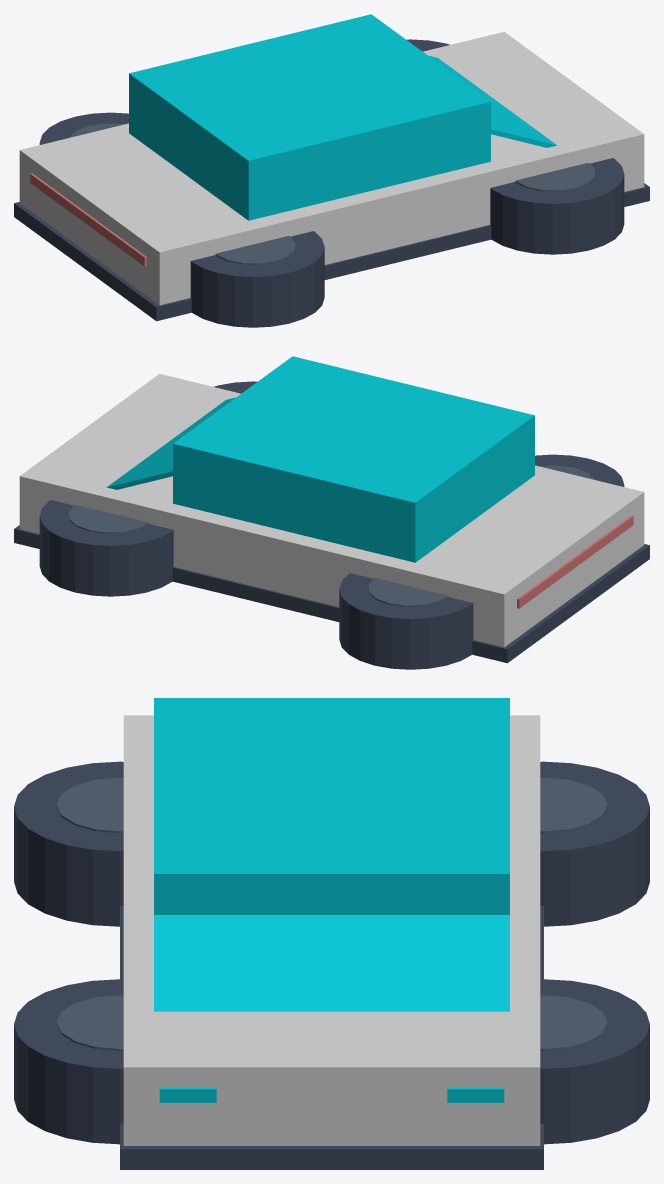
Rendered from electric_sedan.glb.
3 renders of one model, top to bottom at view 1: azimuth 30°, elevation 25°; view 2: azimuth 150°, elevation 25°; view 3: azimuth 270°, elevation 25°, orthographic. The views are drawn at different scales.
Visible parts, largest first — view 1: body, cabin, wheel_2, wheel_0, skirts, windshield, rim_0, rim_2, taillight, wheel_3; view 2: body, cabin, wheel_3, wheel_1, skirts, windshield, rim_1, rim_3, taillight, wheel_2; view 3: cabin, body, windshield, wheel_0, wheel_1, wheel_2, wheel_3, skirts, rim_0, rim_1, rim_2, rim_3 (+2 smaller).
Part boxes in pixels (bbox=[...]): body: bbox=[19, 32, 644, 305]; cabin: bbox=[129, 14, 490, 220]; wheel_2: bbox=[190, 231, 324, 327]; wheel_0: bbox=[490, 158, 624, 254]; skirts: bbox=[14, 183, 649, 321]; windshield: bbox=[428, 55, 557, 147]; rim_0: bbox=[515, 162, 595, 191]; rim_2: bbox=[215, 236, 295, 264]; taillight: bbox=[30, 173, 146, 266]; wheel_3: bbox=[39, 112, 128, 144]; body: bbox=[19, 374, 644, 647]; cabin: bbox=[173, 356, 534, 562]; wheel_3: bbox=[339, 573, 473, 669]; wheel_1: bbox=[39, 500, 173, 596]; skirts: bbox=[14, 525, 649, 663]; windshield: bbox=[106, 397, 235, 489]; rim_1: bbox=[68, 504, 148, 533]; rim_3: bbox=[368, 578, 448, 606]; taillight: bbox=[517, 515, 633, 608]; wheel_2: bbox=[535, 454, 624, 486]; cabin: bbox=[154, 698, 509, 914]; body: bbox=[123, 715, 540, 1145]; windshield: bbox=[154, 915, 509, 1011]; wheel_0: bbox=[14, 979, 123, 1144]; wheel_1: bbox=[540, 979, 649, 1144]; wheel_2: bbox=[14, 761, 123, 926]; wheel_3: bbox=[540, 761, 649, 926]; skirts: bbox=[120, 906, 543, 1169]; rim_0: bbox=[56, 995, 123, 1050]; rim_1: bbox=[540, 995, 607, 1050]; rim_2: bbox=[56, 777, 123, 833]; rim_3: bbox=[540, 777, 607, 833].
Bounding box in the file's own units: 2.24 × 0.5555 × 1.68.
